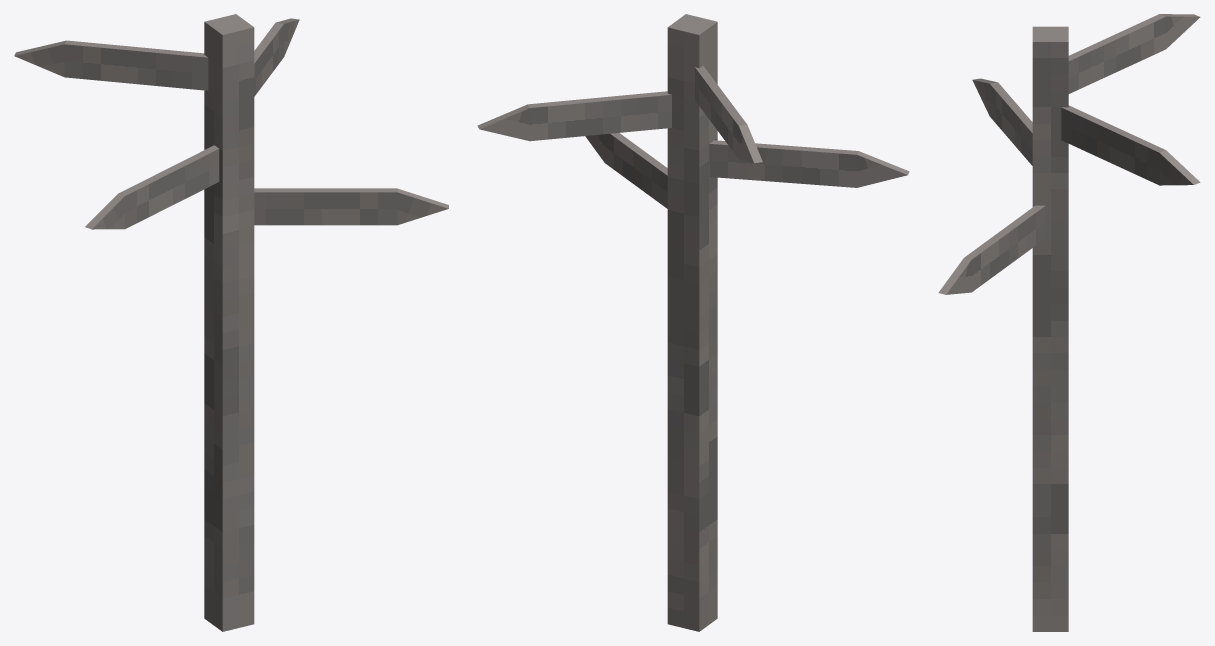
The model's file is road_post.fbx.
3 views of the same model, side by side, from view 1: azimuth 30°, elevation 25°; view 2: azimuth 150°, elevation 25°; view 3: azimuth 270°, elevation 25° (orthographic).
Visible parts, largest first — view 1: cube, SIGN_3, SIGN, SIGN_2, SIGN_1; view 2: cube, SIGN_1, SIGN_2, SIGN_3, SIGN; view 3: cube, SIGN_1, SIGN, SIGN_3, SIGN_2.
Part boxes in pixels (<box>): cube: <box>204,14,254,631</box>; SIGN_3: <box>254,188,448,225</box>; SIGN: <box>14,40,208,90</box>; SIGN_2: <box>85,145,219,229</box>; SIGN_1: <box>254,18,299,96</box>; cube: <box>667,14,717,631</box>; SIGN_1: <box>477,91,671,141</box>; SIGN_2: <box>710,140,909,187</box>; SIGN_3: <box>585,133,667,208</box>; SIGN: <box>695,65,762,163</box>; cube: <box>1032,26,1068,631</box>; SIGN_1: <box>1061,105,1200,185</box>; SIGN: <box>1068,14,1200,93</box>; SIGN_3: <box>938,205,1045,294</box>; SIGN_2: <box>972,78,1032,165</box>.
Size of the model in its own units: 137 by 225 by 90.67.
Materials: 2 (2 with a texture image).
